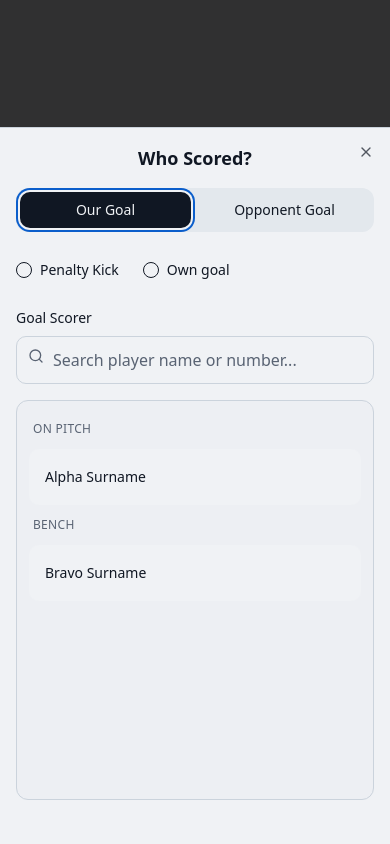
Test: QuickGoalButton own goal › unticks and disables Penalty when ticked, and never sends both
Later steps or results of the test are not shown.
Click the checkbox named "Penalty Kick" next to "Penalty Kick".
click(24, 270)  # box [16,262,32,278]
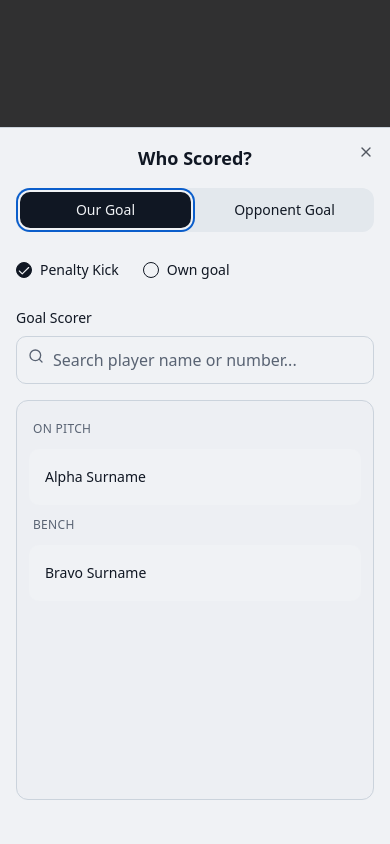
Check: the checkbox named "Penalty Kick" next to "Penalty Kick" is checked, box [16,262,32,278]
Click the checkbox named "Own goal" next to "Own goal".
click(151, 270)  # box [143,262,159,278]
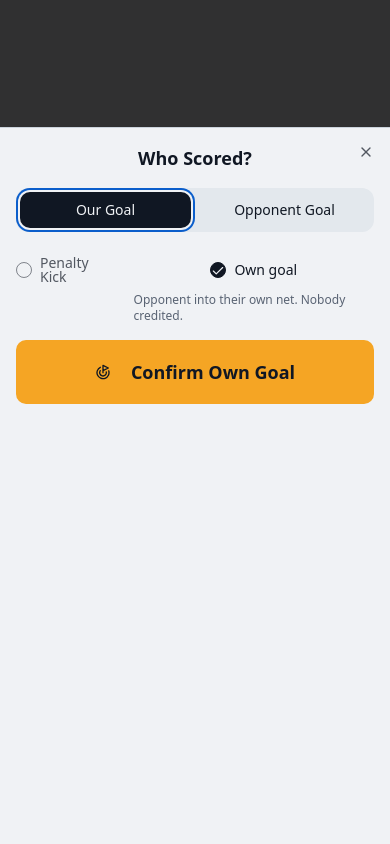
Check: the checkbox named "Penalty Kick" next to "Penalty Kick" is not checked, box [16,262,32,278]
Check: the checkbox named "Penalty Kick" next to "Penalty Kick" is disabled, box [16,262,32,278]
